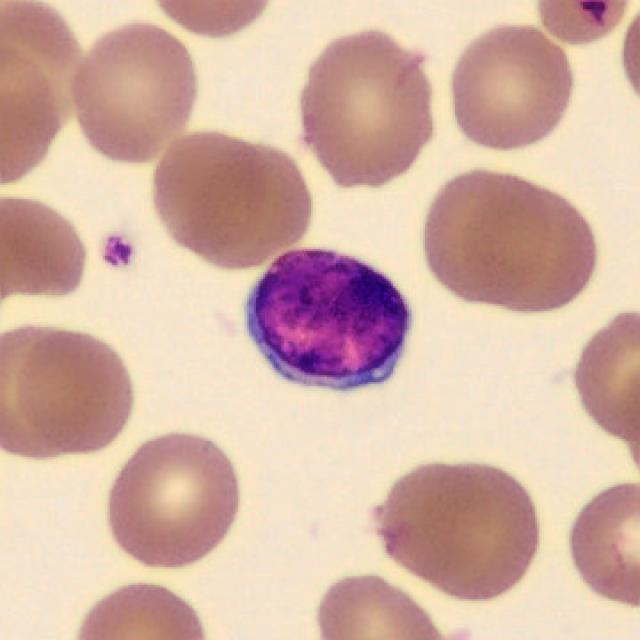Linfocito: (247, 249, 411, 391)
